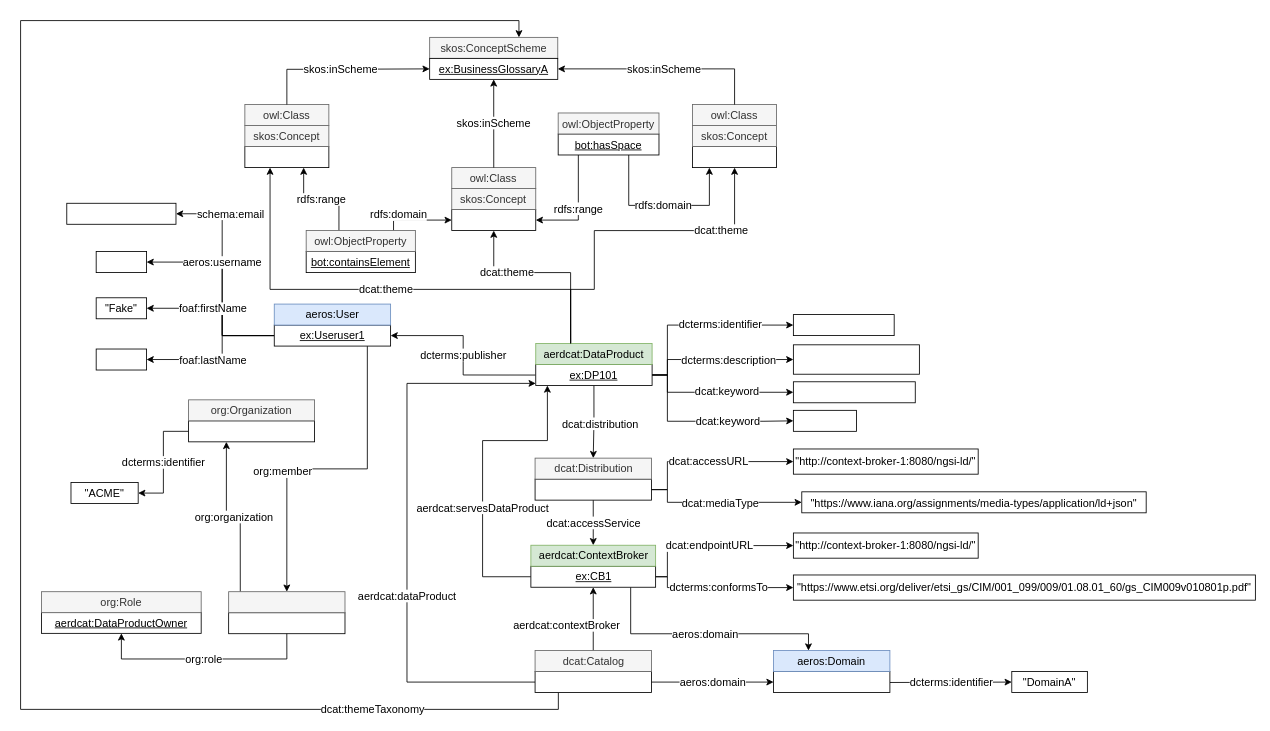
Some shapes in this 1270 by 731 pixel diagram are drawn without their labels. Here are the shapes that lost their labels. From the top down, the box of each, then its label:
(244, 146, 329, 168): a4bdg:Desk
(692, 146, 777, 168): bot:Building
(66, 202, 176, 224): "user1@myorg.com"
(451, 209, 536, 231): seas:Room
(95, 251, 147, 273): "user1"
(793, 314, 894, 336): "Data Product 101"
(95, 348, 147, 370): "User 1"
(793, 344, 919, 374): "Contains data related to the inventory of desks"
(793, 381, 915, 403): "network lab DEVNET"
(188, 420, 315, 442): ex:OrganizationACME
(793, 410, 856, 431): "Marousi"
(534, 478, 651, 500): ex:Dist101
(228, 591, 345, 613): org:Membership
(228, 612, 345, 634): ex:Muser1
(534, 671, 651, 693): ex:DomainACatalog
(773, 671, 890, 693): ex:DomainA
